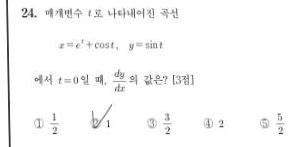choice: (88, 111, 102, 130)
not-choice: (201, 116, 214, 130), (32, 117, 45, 130), (145, 117, 158, 130), (258, 117, 271, 129)
